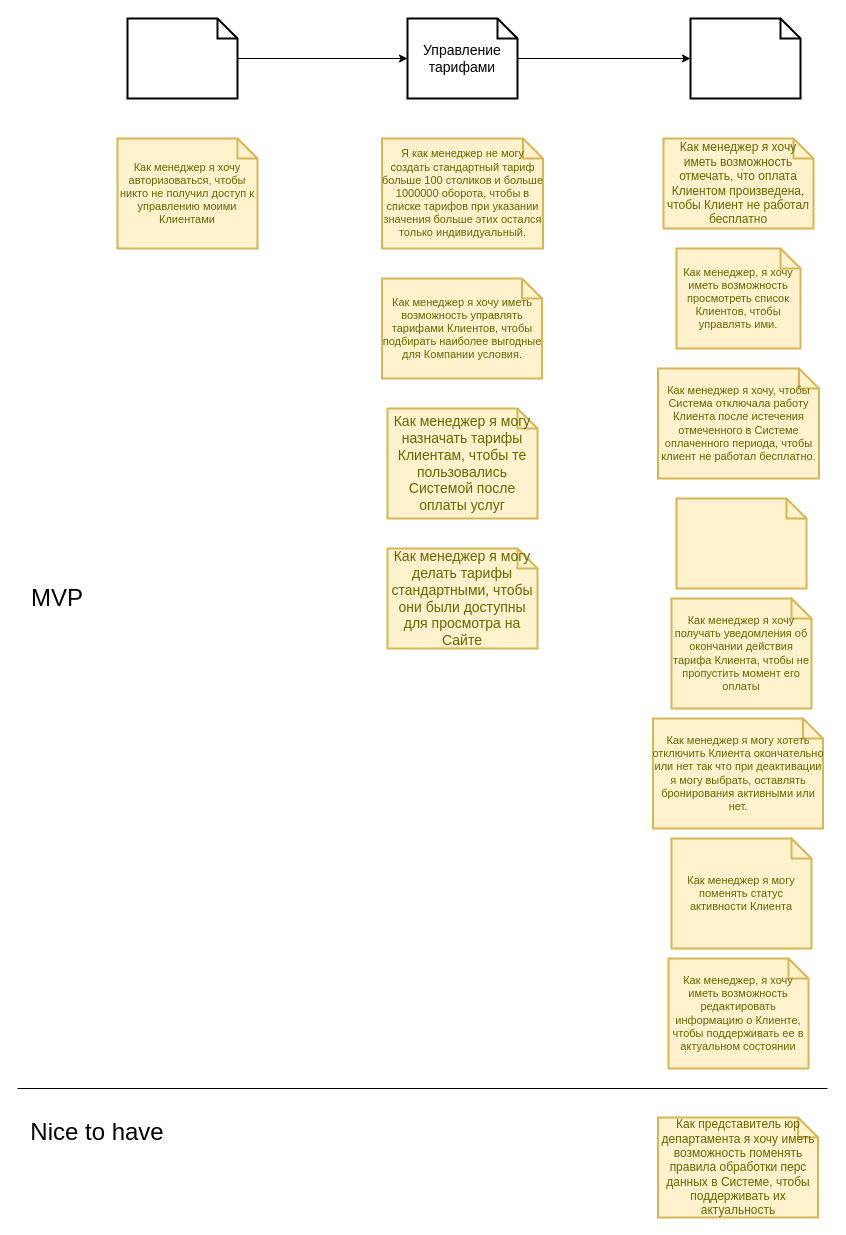
This 846x1235 diagram has some shape labels left out. The shapes that lost their labels are listed below. From the top down, each one's centre as x and y in pixels, then its label:
(182,58): Авторизация
(745,58): Управление клиентами
(741,543): Как менеджер, я хочу посмотреть УЗ Клиента, чтобы узнать о нем информацию
